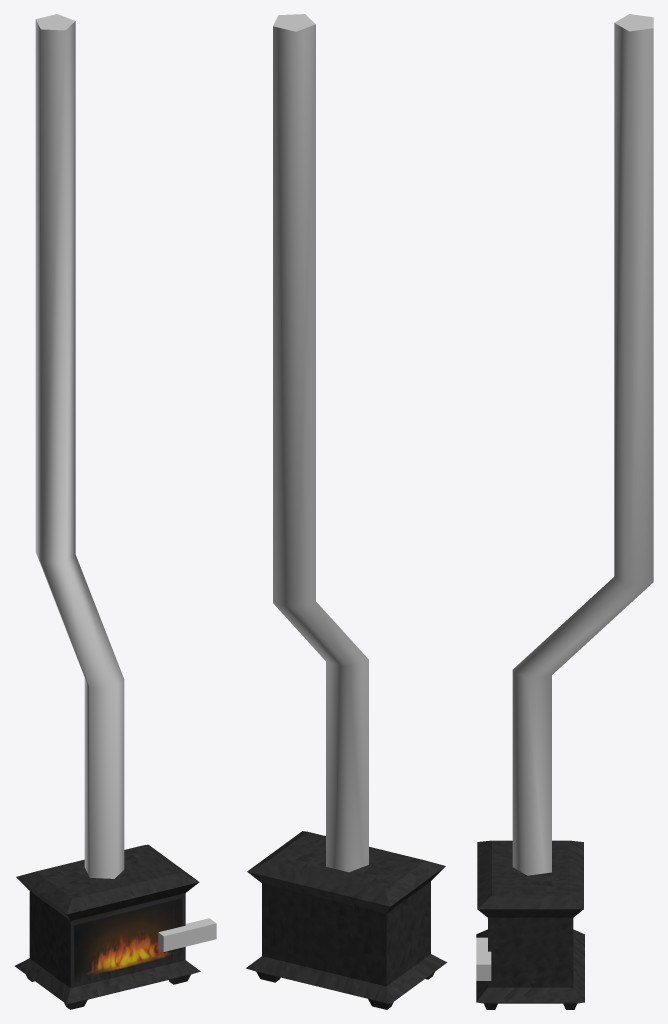
Rendered from Fireplace.fbx.
The picture shows the model from 3 angles, left to right: view 1: azimuth 30°, elevation 25°; view 2: azimuth 150°, elevation 25°; view 3: azimuth 270°, elevation 25°; orthographic projection. The views are drawn at different scales.
Visible parts, largest first — view 1: Cylinder001, Box001, Box002; view 2: Cylinder001, Box001; view 3: Cylinder001, Box001, Box002.
Boxes of the visible parts, left/top/right/bottom form: Cylinder001: left=35, top=14, right=124, bottom=878; Box001: left=14, top=844, right=200, bottom=1009; Box002: left=158, top=918, right=216, bottom=951; Cylinder001: left=273, top=14, right=368, bottom=872; Box001: left=246, top=831, right=446, bottom=1009; Cylinder001: left=512, top=14, right=653, bottom=875; Box001: left=476, top=840, right=584, bottom=1009; Box002: left=476, top=937, right=491, bottom=980.
Bounding box in the file's own units: 82.41 × 483 × 81.25.
